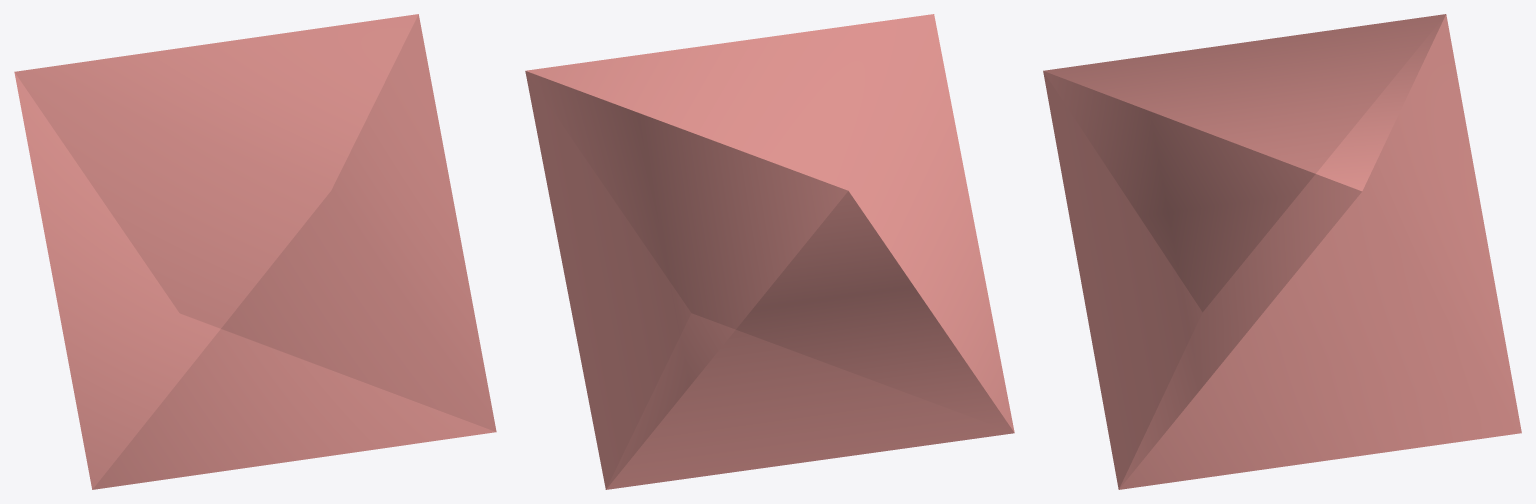
3 renders of one model, left to right at view 1: azimuth 30°, elevation 25°; view 2: azimuth 150°, elevation 25°; view 3: azimuth 270°, elevation 25°, orthographic.
Size of the model in its own units: 5.6 by 4.2 by 5.7.
